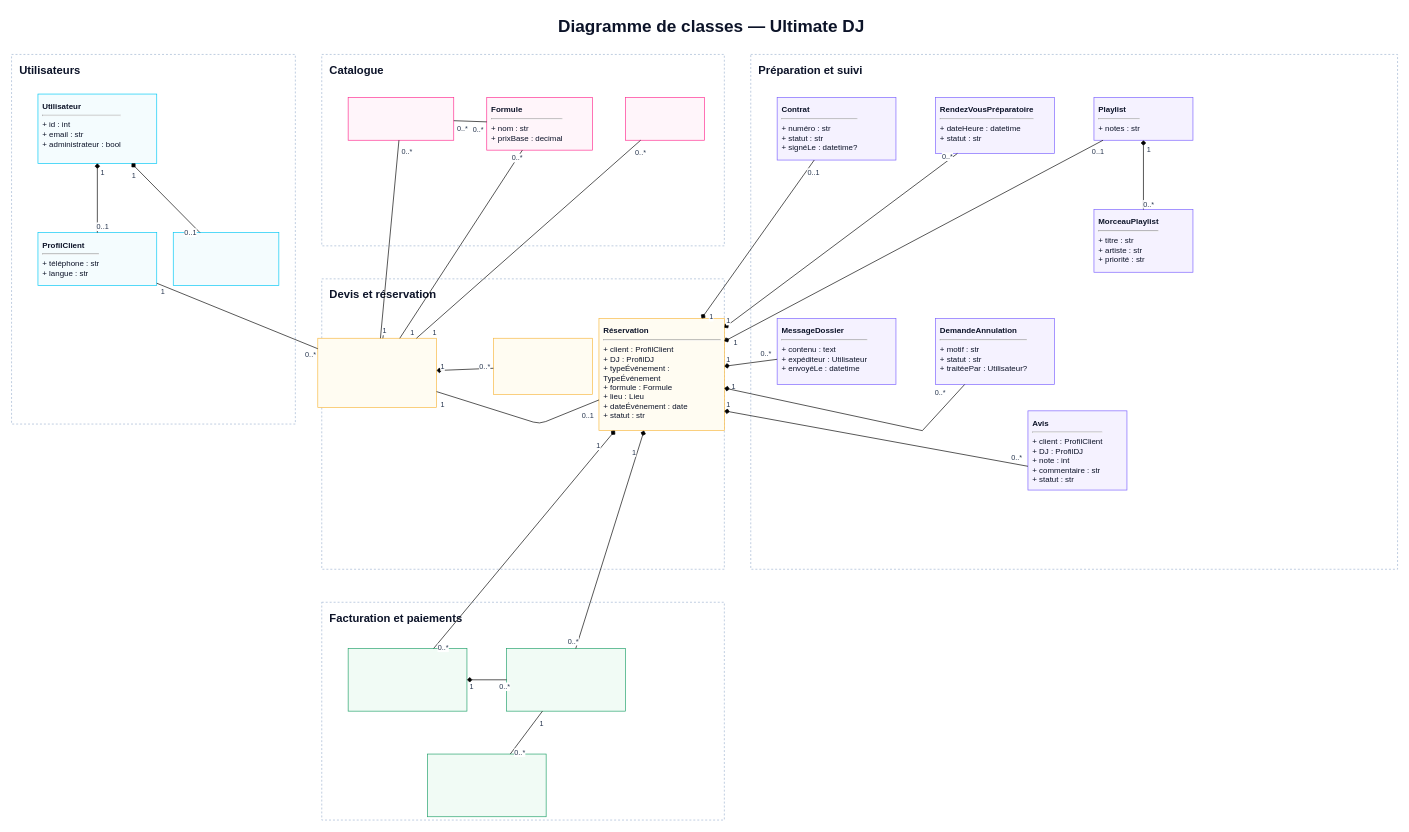
Image size: 1409x832. Some labels were removed from this diagram. The shapes that lost their labels are listed below. From the top down, each one's centre as x and y in pixels, then its label:
At pixel 400 118: "TypeÉvénement + nom : str".
At pixel 665 118: "Lieu + nom : str + ville : str".
At pixel 226 258: "ProfilDJ + nomScène : str + tarifHoraire : decimal".
At pixel 377 373: "Devis + dateÉvénement : date + montantTotal : decimal + statut : str".
At pixel 542 366: "OptionDevis + quantité : int + prixUnitaire : decimal".
At pixel 407 679: "Facture + numéro : str + type : str + montant : decimal".
At pixel 565 679: "Paiement + montant : decimal + statut : str + idSessionStripe : str".
At pixel 486 785: "Remboursement + montant : decimal + motif : str + statut : str".
